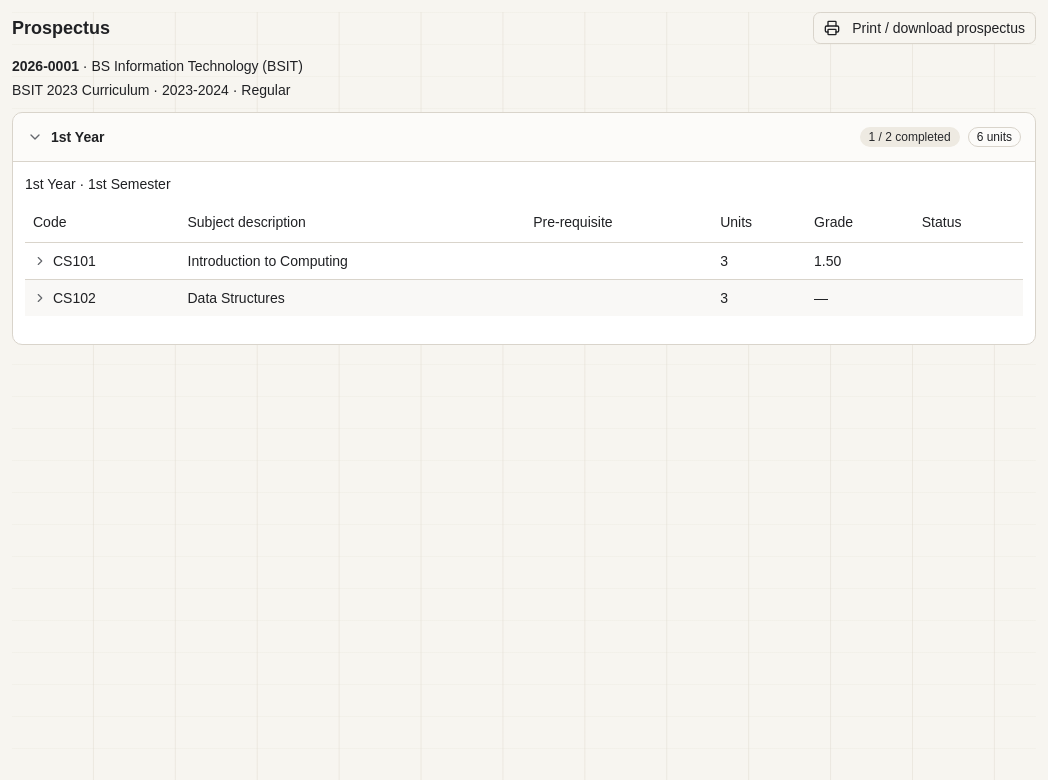
Test: ProspectusDocument › year accordion and phone disclosure (stakeholder Doc 13, Doc 20) › collapses a subject's pre-requisite and status on a phone until tapped
Expected: the text "3" in the row of "Introduction to Computing" is shown, left=720, top=252, right=728, bottom=268
Expected: the text "1.50" is shown, left=806, top=242, right=914, bottom=279
Step 1. Click the button "CS101" → (102, 260), box left=33, top=250, right=172, bottom=270
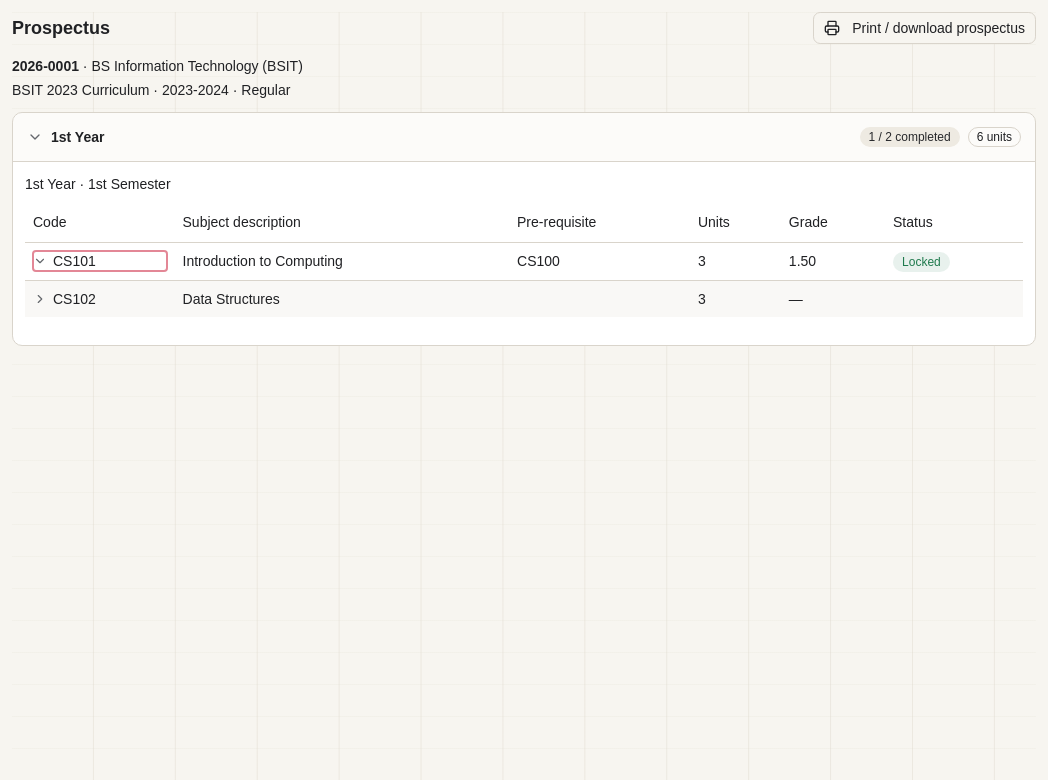
Now the button "CS101" is expanded, box left=33, top=251, right=166, bottom=271
Now the text "CS100" is shown, box left=509, top=242, right=690, bottom=280
Now the icon "Locked" is shown, box left=893, top=252, right=950, bottom=272
